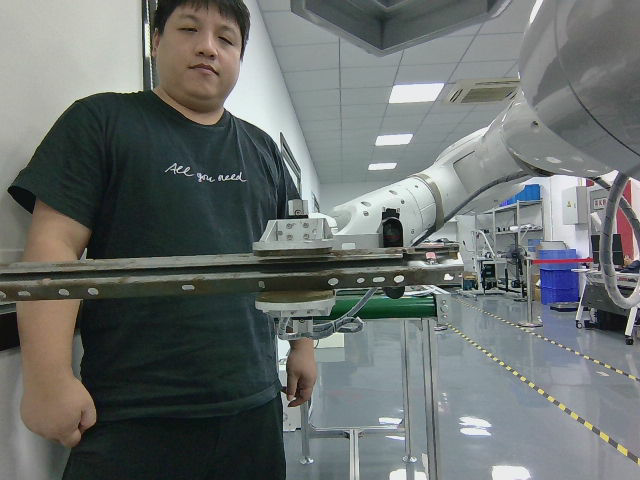right: (0, 245, 465, 304)
